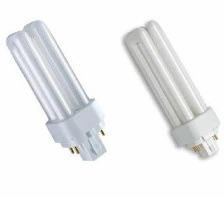light_bulb: (4, 18, 109, 166), (121, 14, 221, 160)
